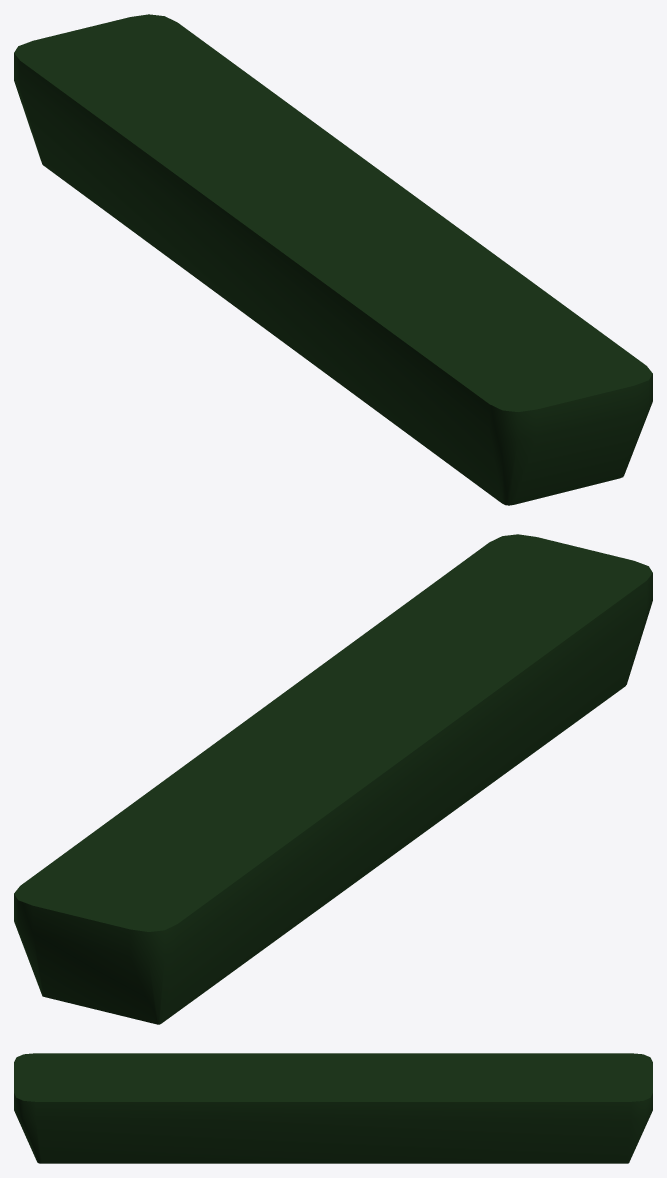
The model's file is lampe_plafond.FBX.
The picture shows the model from 3 angles, top to bottom: view 1: azimuth 30°, elevation 25°; view 2: azimuth 150°, elevation 25°; view 3: azimuth 270°, elevation 25°; orthographic projection. The views are drawn at different scales.
Visible parts, largest first — view 1: lampe_plafond; view 2: lampe_plafond; view 3: lampe_plafond.
Boxes of the visible parts, x1,y1,x2,y2 form: lampe_plafond: [14, 14, 652, 505]; lampe_plafond: [14, 534, 652, 1024]; lampe_plafond: [14, 1053, 652, 1163].
Size of the model in its own units: 13.08 by 8.49 by 72.58.
